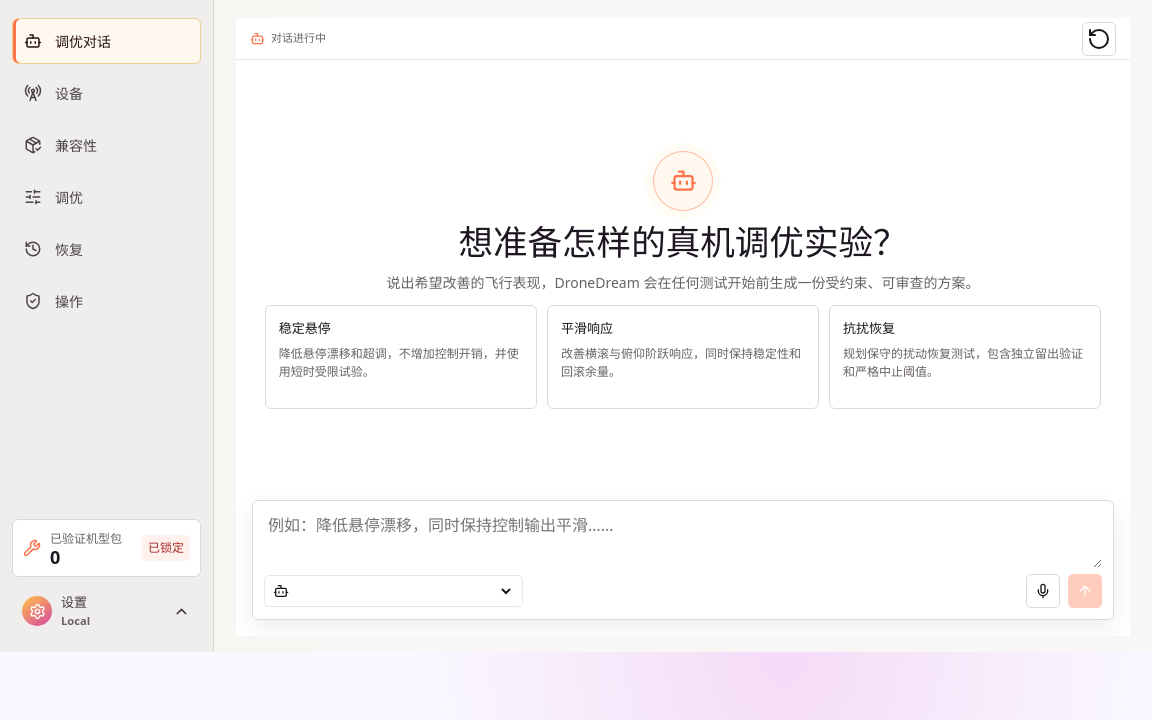
Scenario: FieldApp › provides independent Simplified Chinese page navigation
This screenshot has width=1152, height=720.
Expected: the dropdown named "模型" is enabled, [294, 582, 514, 600]
Expected: the heading "想准备怎样的真机调优实验？" is shown, [458, 218, 908, 265]
What coordinates should you click on to do the following:
click the button "设备"
I would click on:
 (106, 93)
Its box is [12, 70, 201, 116].
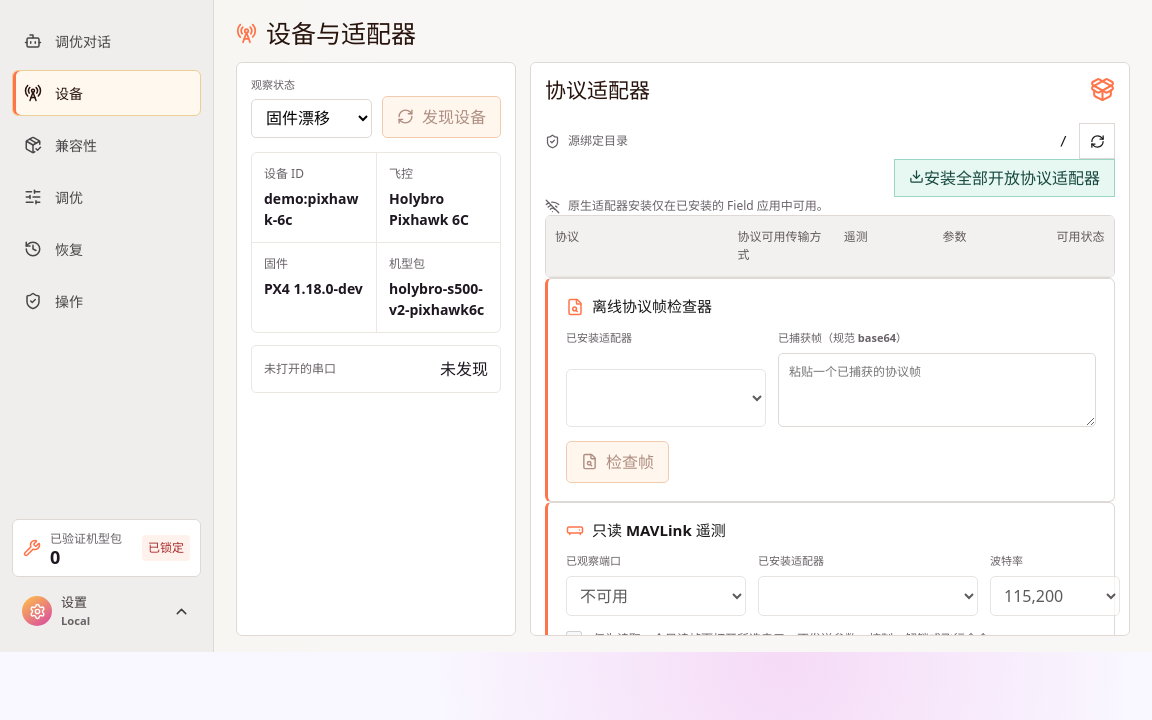
Result: the heading "设备与适配器" is shown at [266, 18, 416, 48]
Result: the dropdown labelled "观察状态" shows "固件漂移" at [251, 98, 372, 138]
What coordinates should you click on to do the following:
click the button with aria-label "打开账户菜单"
I would click on:
 (106, 611)
Its box is [12, 585, 201, 638].
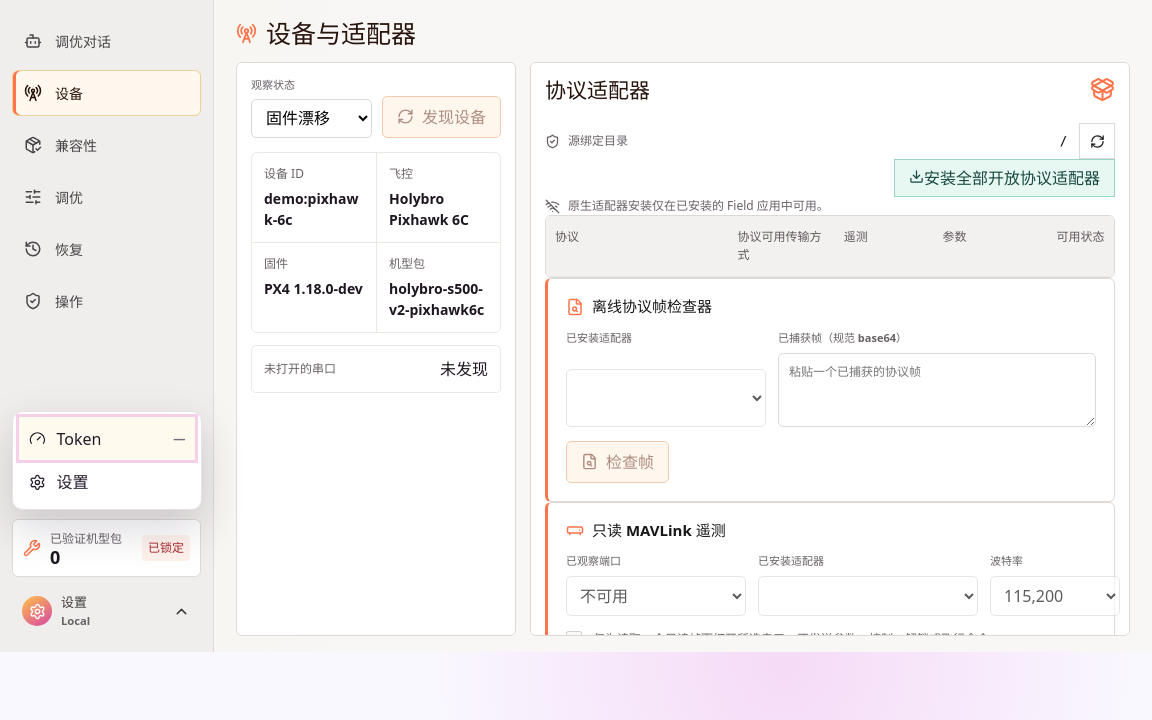
Result: the menu item "Token —" is shown at [19, 417, 195, 460]
Result: the menu item "设置" is shown at [19, 460, 195, 504]
